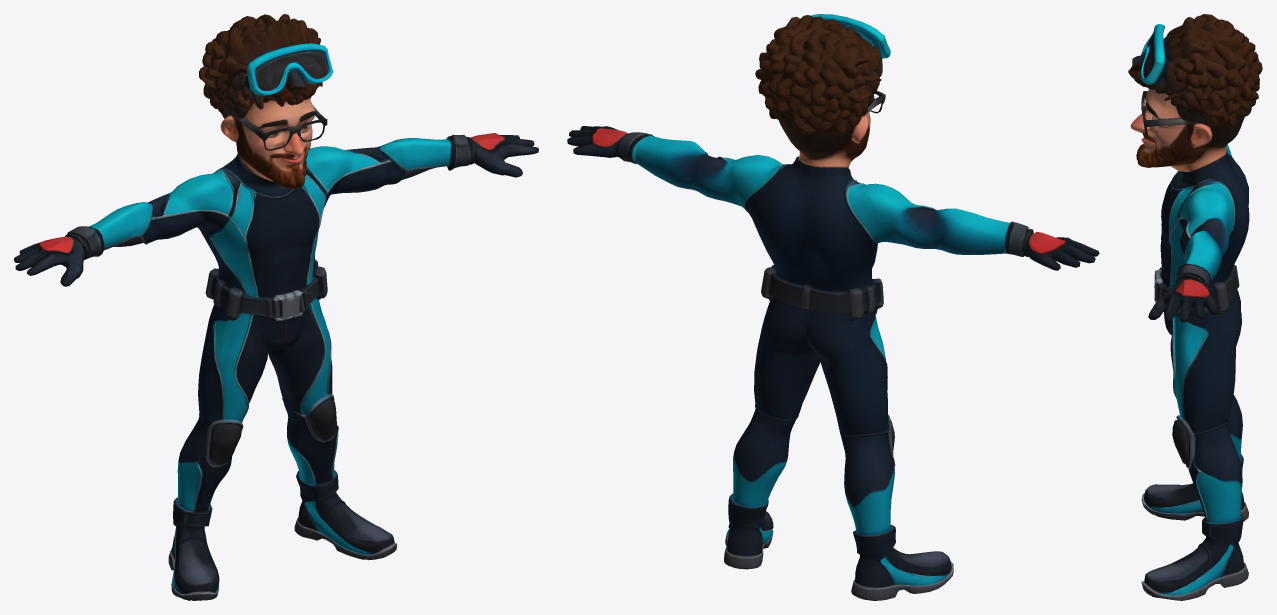
File: charDiver.glb
The picture shows the model from 3 angles, left to right: view 1: azimuth 30°, elevation 25°; view 2: azimuth 150°, elevation 25°; view 3: azimuth 270°, elevation 25°; orthographic projection. The views are drawn at different scales.
Visible parts, largest first — view 1: model; view 2: model; view 3: model.
Boxes of the visible parts, bbox=[...] form: model: bbox=[14, 14, 538, 600]; model: bbox=[567, 14, 1099, 600]; model: bbox=[1128, 14, 1262, 600].
Size of the model in its own units: 1.89 by 1.89 by 0.4359.
1 material, 1 textured.
